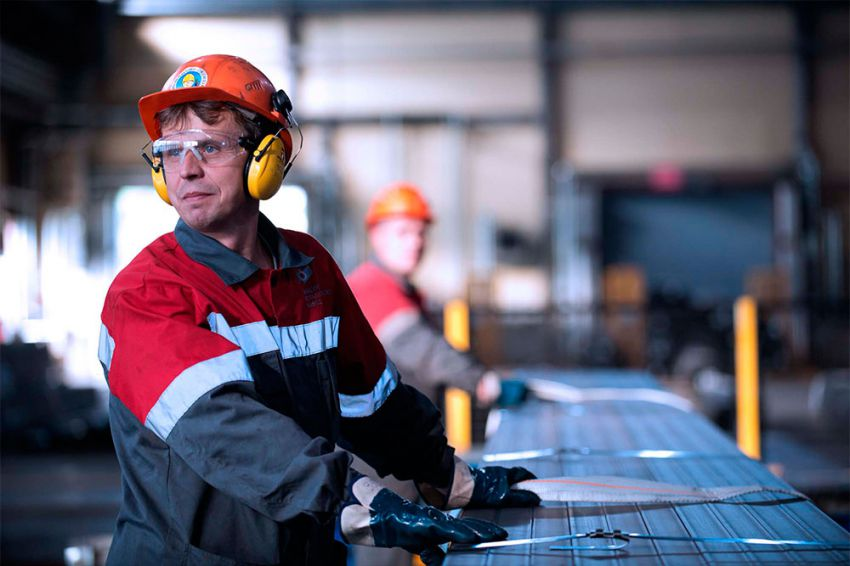person: (97, 54, 543, 566), (342, 186, 533, 410)
